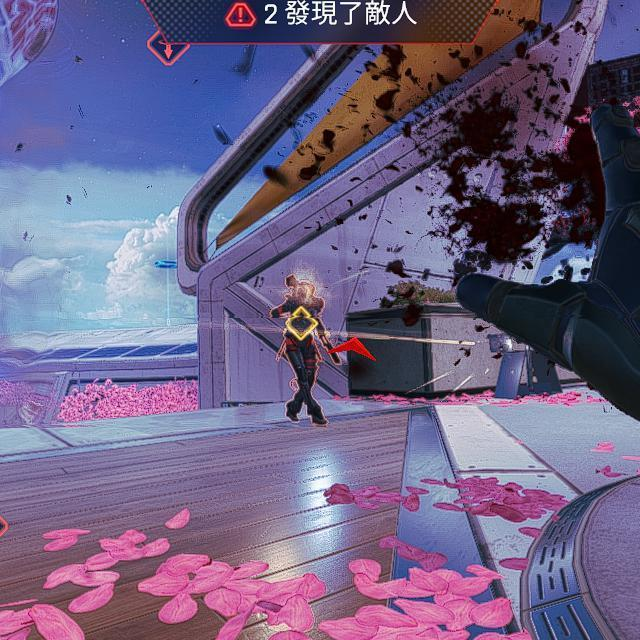avatar: (269, 274, 344, 425)
object: (285, 305, 318, 341)
